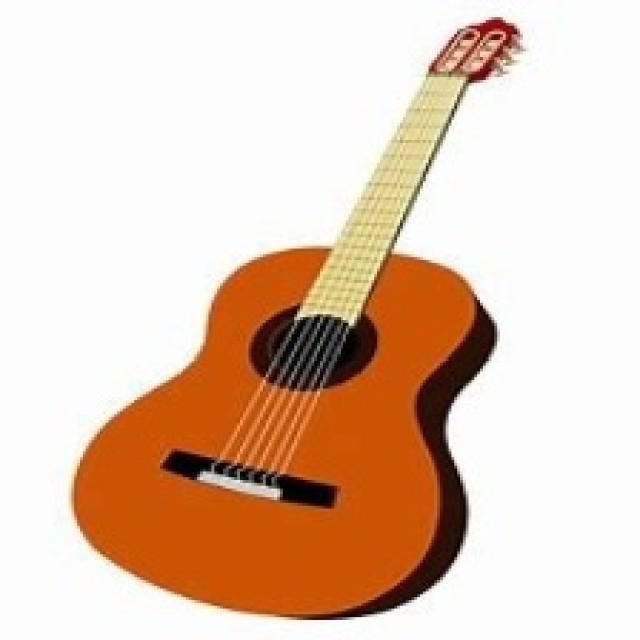acousticguitar: (73, 19, 518, 616)
